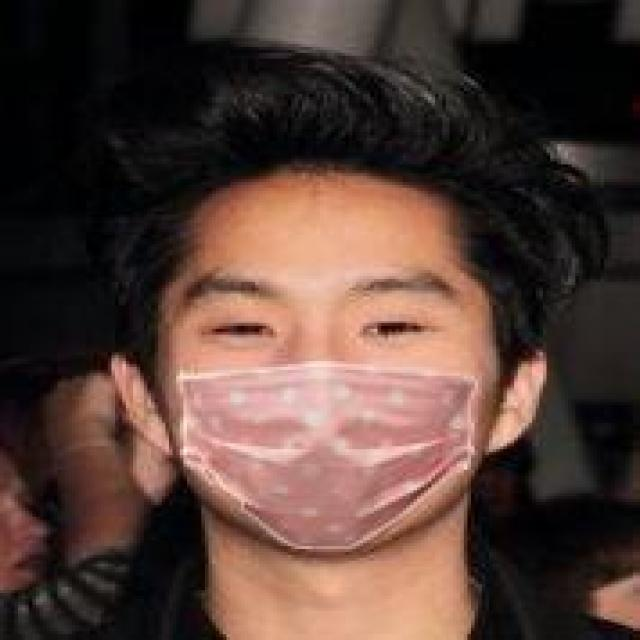mask: (82, 70, 590, 572)
